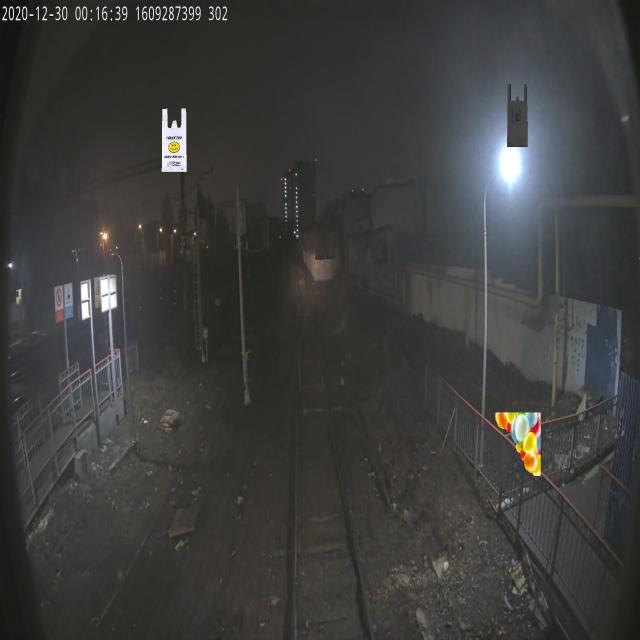balloon: (495, 412, 541, 476)
plastic bag: (162, 108, 187, 172), (507, 84, 528, 148)
